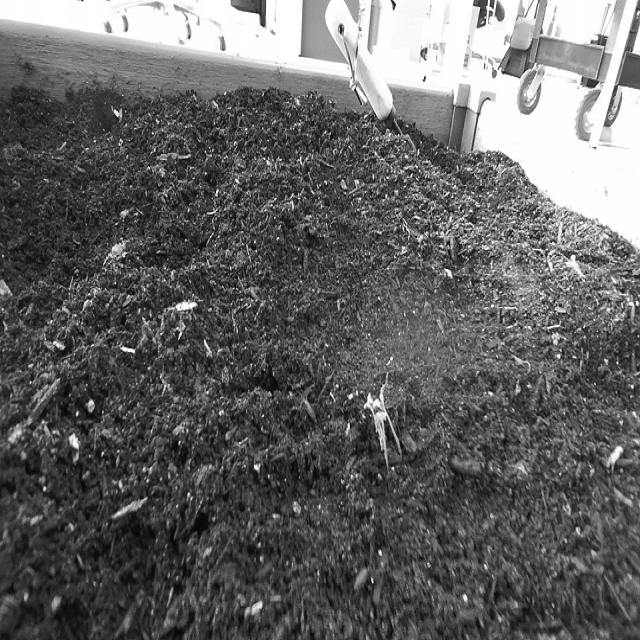Unhealthy: (358, 363, 408, 474)
